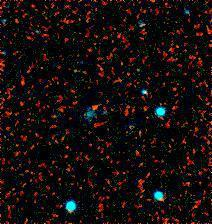star: (79, 92, 109, 122)
